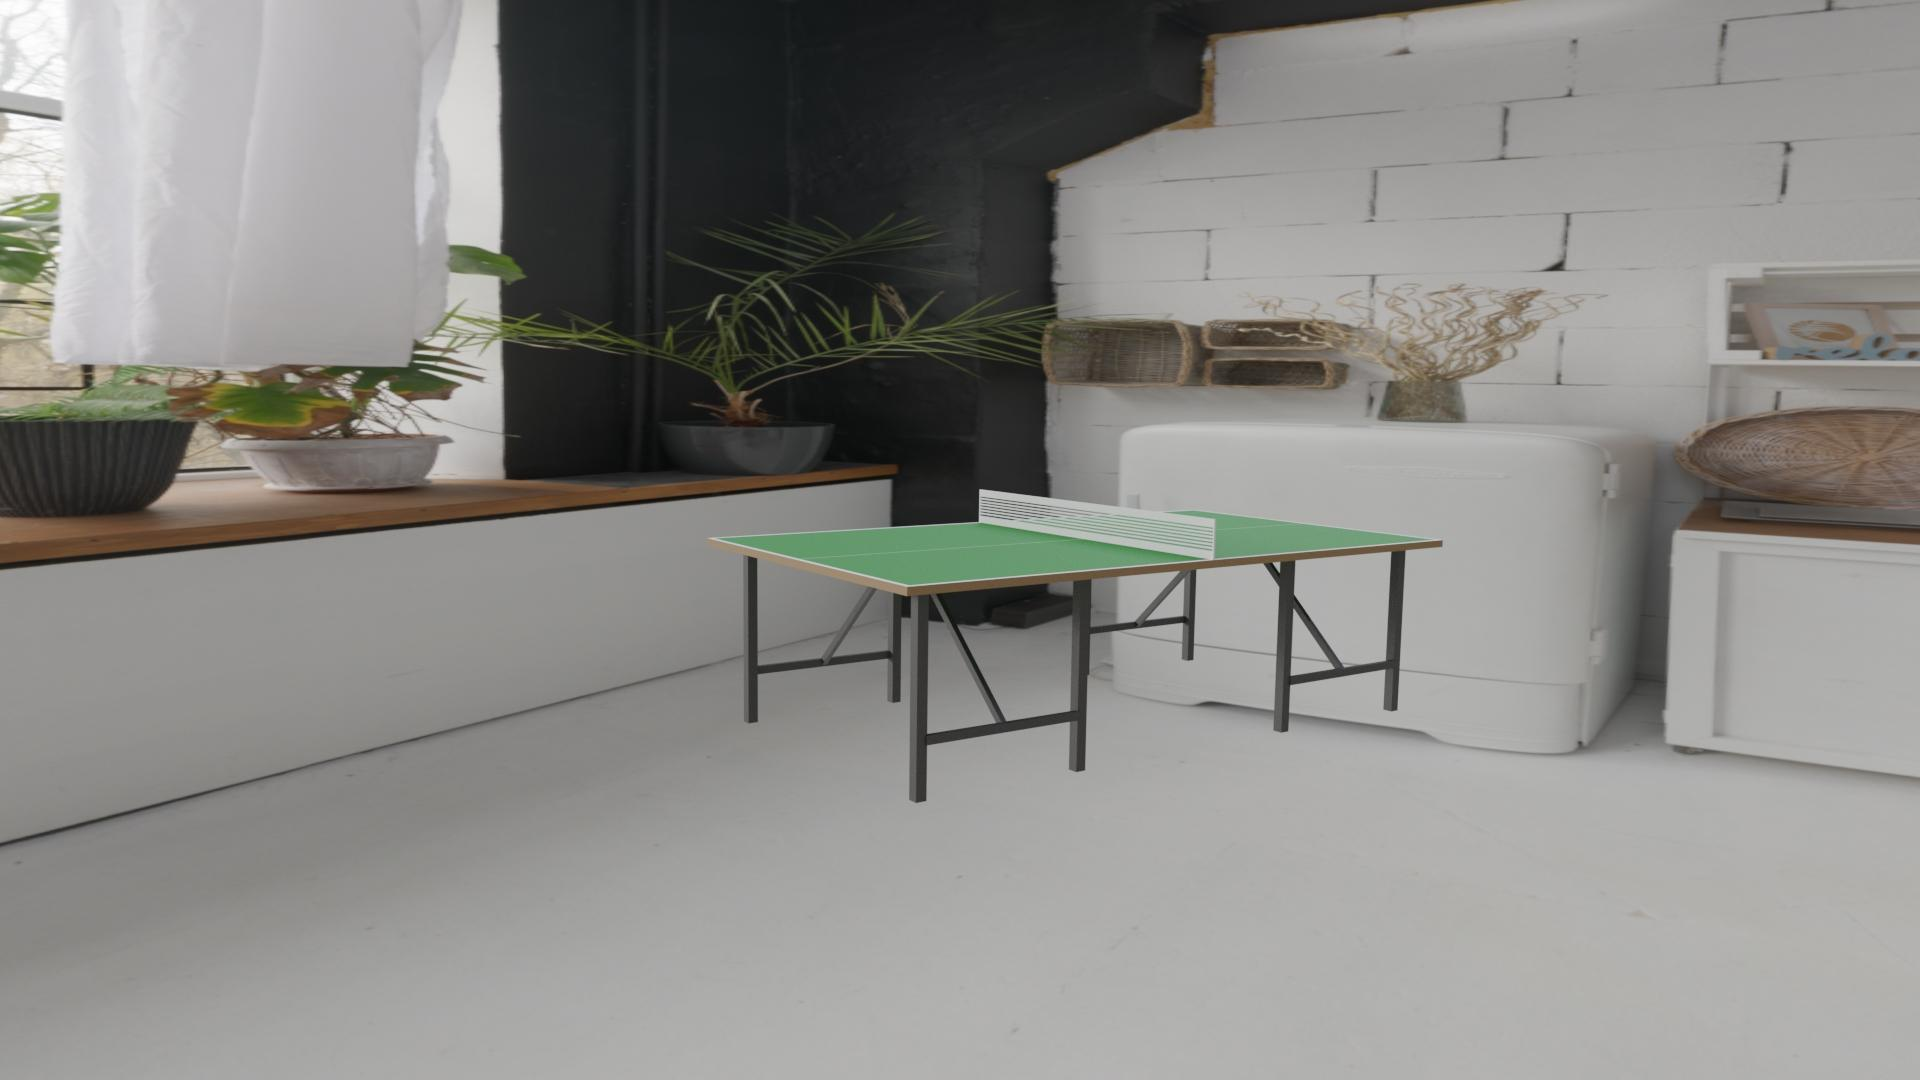table: (713, 510, 1436, 585)
